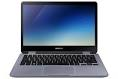laptop: (9, 0, 110, 75)
